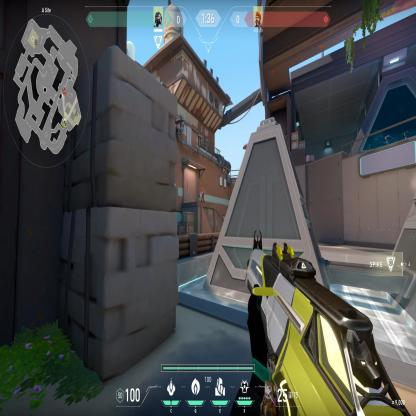enemy: (200, 186, 205, 204)
